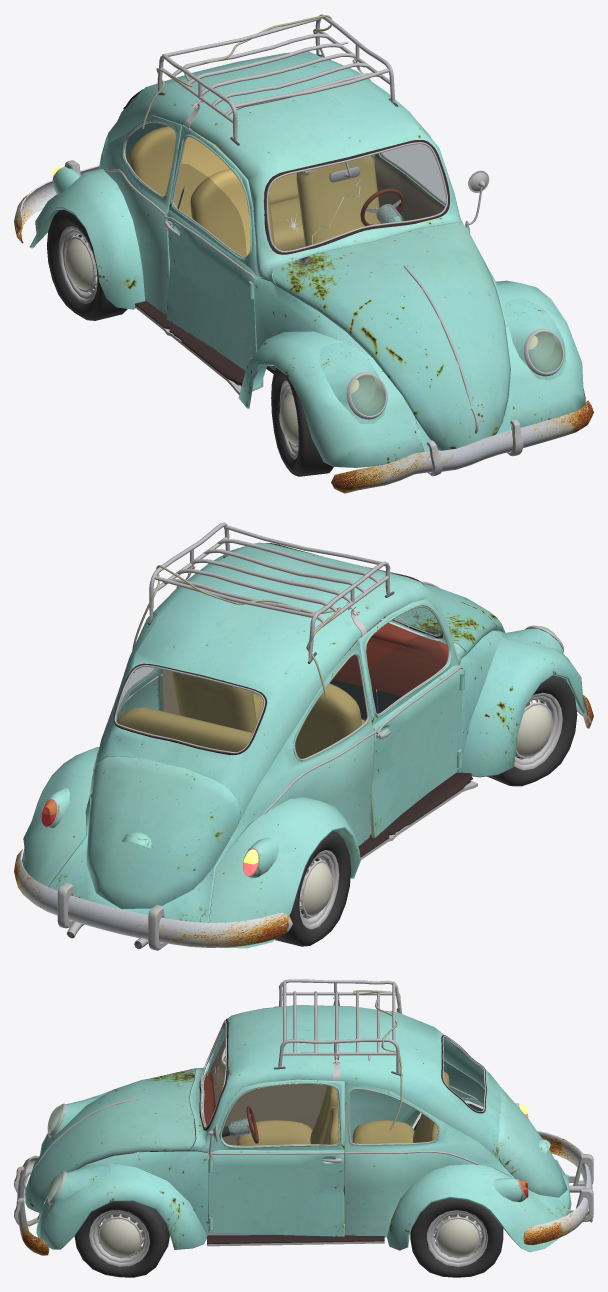
3 views of the same model, one above another, from view 1: azimuth 30°, elevation 25°; view 2: azimuth 150°, elevation 25°; view 3: azimuth 270°, elevation 25° (orthographic). The views are drawn at different scales.
Visible parts, largest first — view 1: Object041_ford_0, Object078_verch_0, Object039_koleso1_0, Object221_steklo_0, Object049_dver_0, Object047_koleso2__0, Object230_koleso1_0, Plane004, Object224_side_0, Box039, Box043, Box041 (+29 smaller); view 2: Object078_verch_0, Object077_back_0, Object049_dver_0, Object039_koleso1_0, Object224_side_0, Object047_koleso2__0, Object063_steklo_0, Plane006, Object228_koleso2__0, Object154_rul_0, Object048_steklo_0, Box039 (+33 smaller); view 3: Object078_verch_0, Object226_dver_0, Object041_ford_0, Object230_koleso1_0, Object132_steklo_0, Object229_side_0, Object228_koleso2__0, Object077_back_0, Object049_panel_0, Cylinder124, Cylinder123, Object224_side_0 (+27 smaller).
Boxes of the visible parts, x1,y1,x2,y2 form: Object041_ford_0: (272,222,510,450); Object078_verch_0: (102,51,468,284); Object039_koleso1_0: (238,277,424,467); Object221_steklo_0: (268,144,445,250); Object049_dver_0: (166,125,258,369); Object047_koleso2__0: (29,169,144,309); Object230_koleso1_0: (488,269,585,430); Plane004: (331,400,593,493); Object224_side_0: (100,115,182,314); Box039: (296,156,380,246); Box043: (129,126,298,218); Box041: (190,169,274,256); Object078_verch_0: (94,542,466,822); Object077_back_0: (86,756,240,909); Object049_dver_0: (357,599,462,837); Object039_koleso1_0: (457,630,584,777); Object224_side_0: (122,640,374,922); Object047_koleso2__0: (208,797,360,948); Object063_steklo_0: (116,667,263,751); Plane006: (14,849,292,947); Object228_koleso2__0: (21,746,98,886); Object154_rul_0: (333,620,459,696); Object048_steklo_0: (295,655,366,758); Box039: (172,672,256,732); Object078_verch_0: (189,1005,499,1161); Object226_dver_0: (208,1079,344,1236); Object041_ford_0: (25,1068,195,1212); Object230_koleso1_0: (36,1151,208,1249); Object132_steklo_0: (222,1084,437,1145); Object229_side_0: (345,1081,571,1237); Object228_koleso2__0: (387,1164,558,1252); Object077_back_0: (495,1086,567,1197); Object049_panel_0: (209,1031,326,1145); Cylinder124: (410,1198,503,1277); Cylinder123: (74,1201,169,1277); Object224_side_0: (349,1059,571,1202).
Bounding box in the file's own units: 41.27 × 40.27 × 94.86.
42 materials, 11 textured.
